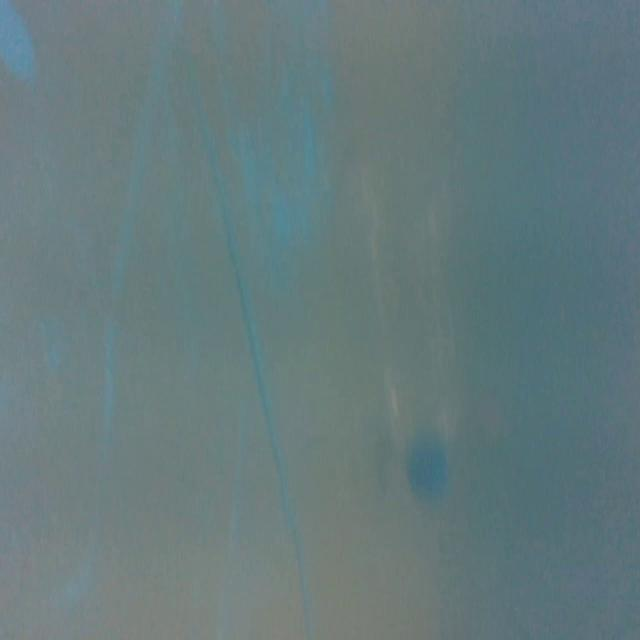plastic bottle: (362, 188, 472, 510)
